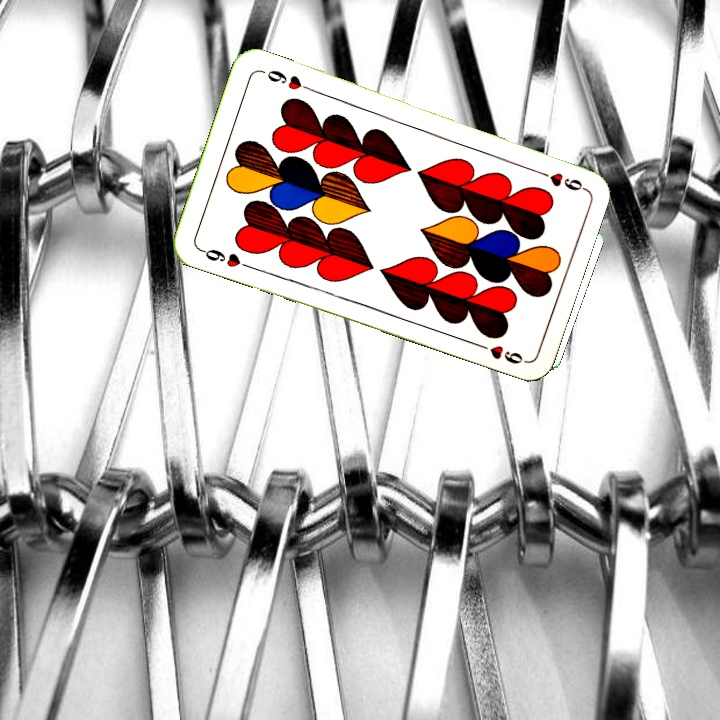H9: (529, 165, 586, 193), (195, 244, 253, 271)
